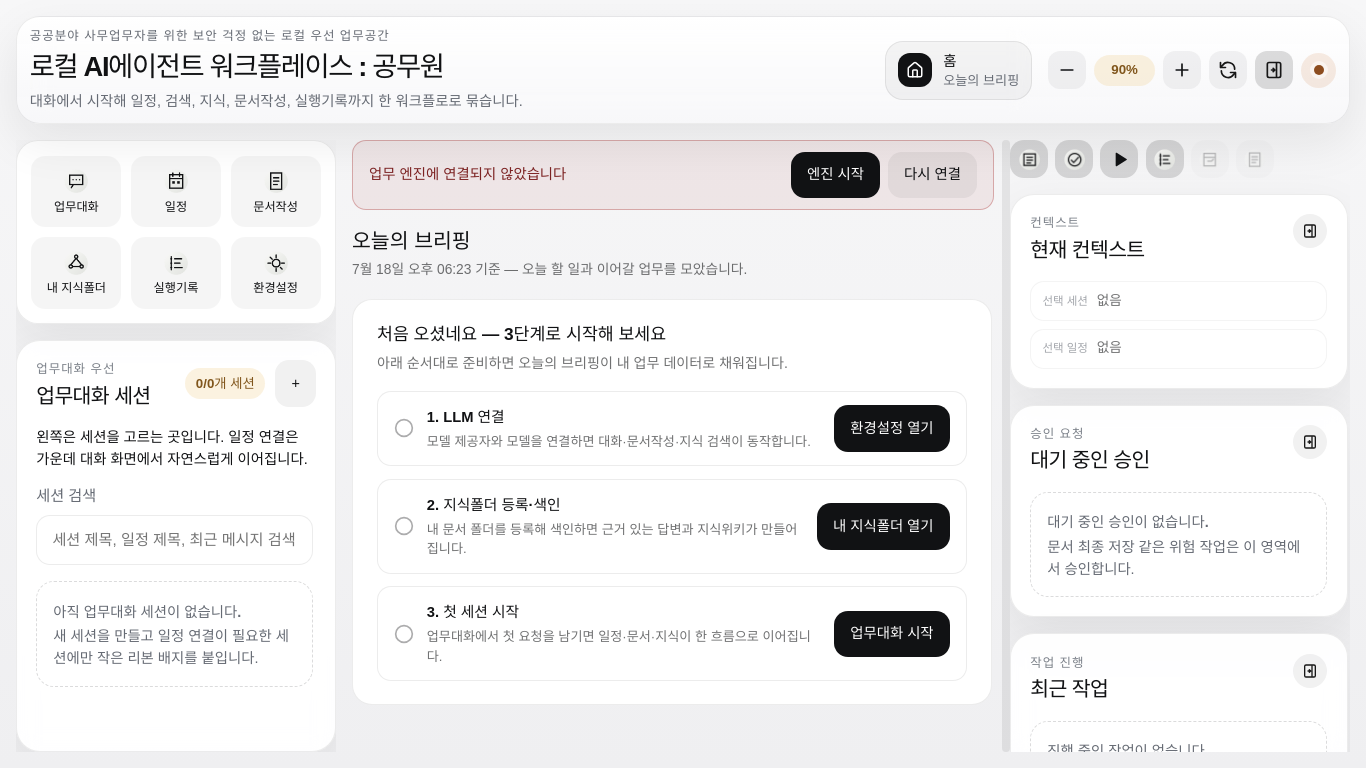
Test: 실행기록 화면 › groups rows under 오늘/어제/이전 headings
This screenshot has width=1366, height=768.
Step 1. Click the button "실행기록" → [176, 273], box 131,237 -> 221,309
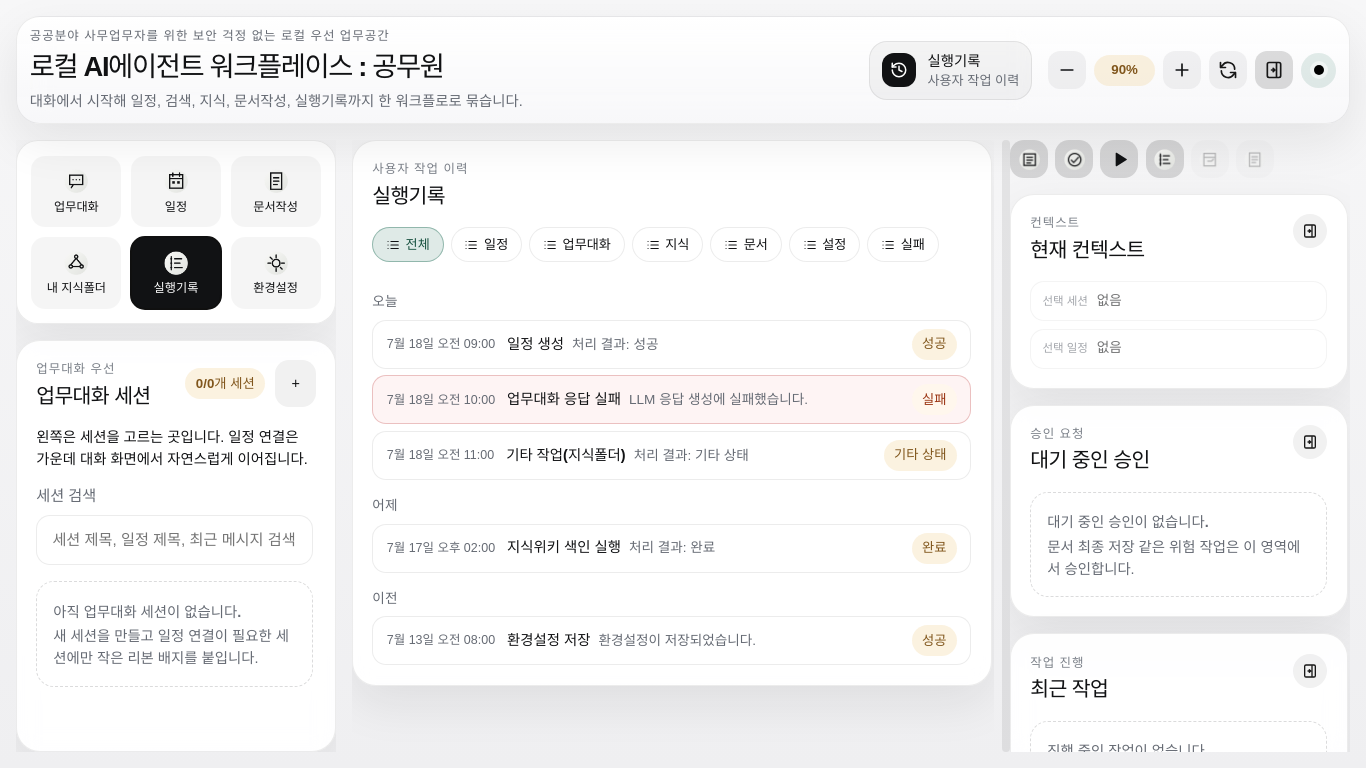
Check: the heading "어제" is shown, box 372,498 -> 398,513
Check: the heading "이전" is shown, box 372,591 -> 398,606
Check: the text "일정 생성" is shown, box 507,334 -> 564,355
